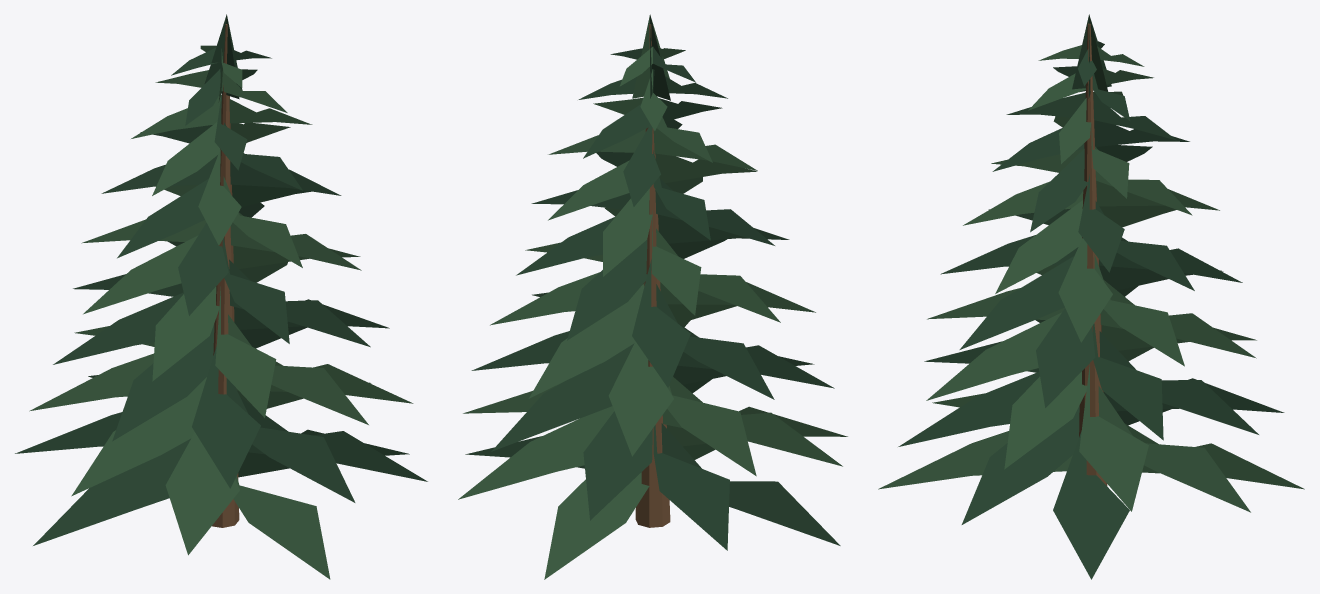
File: detail_spruce_old_impostor.glb
The picture shows the model from 3 angles, left to right: view 1: azimuth 30°, elevation 25°; view 2: azimuth 150°, elevation 25°; view 3: azimuth 270°, elevation 25°; orthographic projection.
Parts seen in each view (by area): view 1: LayeredFarCrown, FarSilhouetteTrunk; view 2: LayeredFarCrown, FarSilhouetteTrunk; view 3: LayeredFarCrown, FarSilhouetteTrunk.
Boxes of the visible parts, box(x1,y1,x2,y2) form: LayeredFarCrown: box(15, 14, 427, 579); FarSilhouetteTrunk: box(212, 24, 239, 527); LayeredFarCrown: box(458, 14, 847, 579); FarSilhouetteTrunk: box(635, 24, 670, 527); LayeredFarCrown: box(878, 14, 1304, 579); FarSilhouetteTrunk: box(1079, 23, 1107, 485).
Size of the model in its own units: 7.32 by 9.39 by 7.32.
